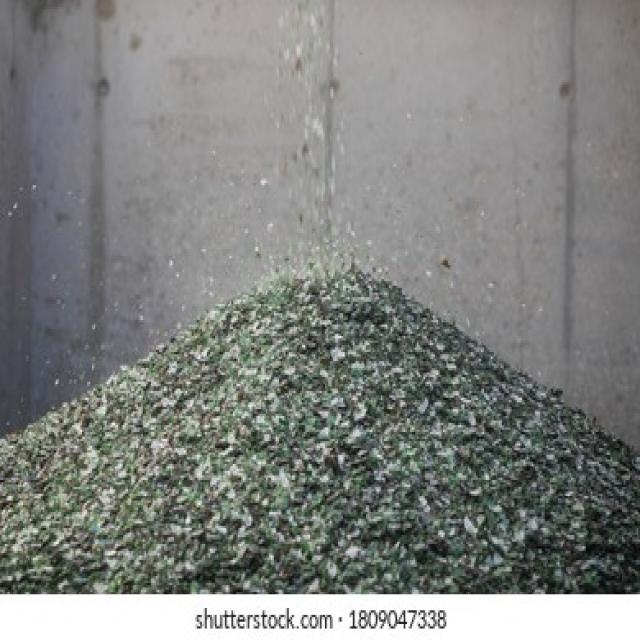trash: (36, 281, 617, 578)
